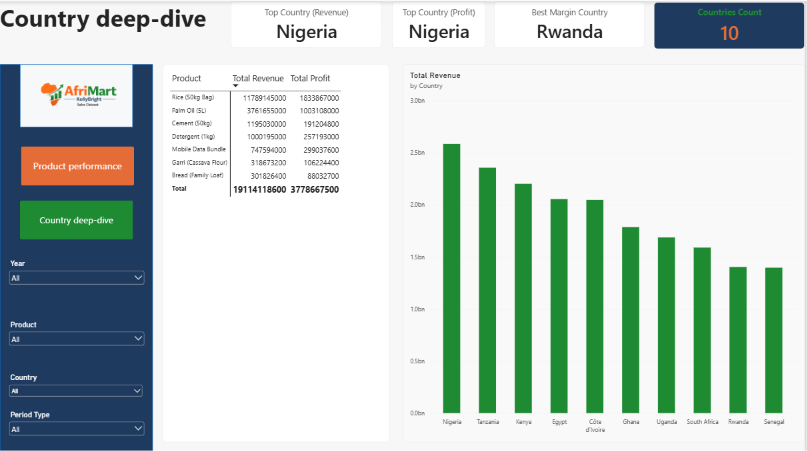

What the dashboard file says about the page in this screenshot:
{"tool":"powerbi","page":{"name":"Country deep-dive","canvas":[1920,1080],"ordinal":2},"visuals":[{"type":"pivotTable","fields":{"Rows":["Sales.Product"],"Values":["_Measures.Total Revenue","_Measures.Total Profit"]},"box":[388,151.2,539.2,901.5],"z":0},{"type":"columnChart","fields":{"Category":["Sales.Country"],"Y":["_Measures.Total Revenue"]},"box":[961.4,151.2,958.6,901.5],"z":1000},{"type":"cardVisual","fields":{"Data":["_Measures.Top Country (Revenue)"]},"box":[550.6,0,359.5,111.3],"z":2000},{"type":"cardVisual","fields":{"Data":["_Measures.Best Margin Country"]},"box":[1178.2,0,359.5,111.3],"z":3000},{"type":"cardVisual","fields":{"Data":["_Measures.Countries Count"]},"box":[1560.5,2.9,359.5,111.3],"z":4000},{"type":"cardVisual","fields":{"Data":["_Measures.Top Country (Profit)"]},"box":[935.8,0,222.5,111.3],"z":5000},{"type":"textbox","box":[0,0,550.6,151.2],"z":6000},{"type":"shape","box":[0,151.2,364.5,929.1],"z":7000},{"type":"slicer","fields":{"Values":["Sales.Period Type"]},"box":[17.1,975.7,332.5,79],"z":8000},{"type":"slicer","fields":{"Values":["Sales.Country"]},"box":[17.1,887.3,327.9,87.4],"z":9000},{"type":"slicer","fields":{"Values":["Sales.Product"]},"box":[17.1,761.7,332.5,95.6],"z":10000},{"type":"slicer","fields":{"Values":["DimDate.Year"]},"box":[17.1,616.2,332.5,79],"z":11000},{"type":"actionButton","box":[47.4,473.6,269.7,94],"z":12000},{"type":"actionButton","box":[51,346.1,269.7,94],"z":13000},{"type":"shape","box":[48.5,151.2,269,150],"z":14000},{"type":"image","box":[8.6,128.4,378.2,195.3],"z":15000}]}

Visuals, with their boxes in screenshot pixels (x1, y1, x2, y2), scaled from the page's 1920x1080 canvas onto the 807x451 screenshot:
pivotTable - Sales.Product x _Measures.Total Revenue: <box>163,63,390,440</box>
columnChart - Sales.Country x _Measures.Total Revenue: <box>404,63,806,440</box>
cardVisual - _Measures.Top Country (Revenue): <box>231,0,383,46</box>
cardVisual - _Measures.Best Margin Country: <box>495,0,646,46</box>
cardVisual - _Measures.Countries Count: <box>656,1,806,48</box>
cardVisual - _Measures.Top Country (Profit): <box>393,0,487,46</box>
textbox: <box>0,0,231,63</box>
shape: <box>0,63,153,450</box>
slicer - Sales.Period Type: <box>7,407,147,440</box>
slicer - Sales.Country: <box>7,371,145,407</box>
slicer - Sales.Product: <box>7,318,147,358</box>
slicer - DimDate.Year: <box>7,257,147,290</box>
actionButton: <box>20,198,133,237</box>
actionButton: <box>21,145,135,184</box>
shape: <box>20,63,133,126</box>
image: <box>4,54,163,135</box>
